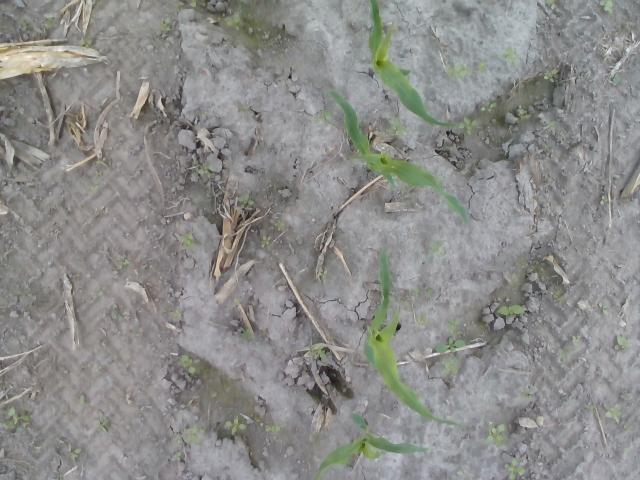Maize: (325, 85, 470, 226), (362, 247, 464, 430), (366, 0, 459, 131), (314, 410, 428, 480)
Weeds: (0, 406, 32, 434), (173, 425, 207, 446), (178, 354, 206, 378), (486, 421, 507, 448), (504, 458, 528, 480), (223, 415, 248, 436), (435, 336, 465, 353), (380, 119, 408, 137), (446, 62, 471, 82), (456, 116, 481, 136), (559, 335, 577, 361), (603, 400, 621, 422), (496, 304, 526, 316), (440, 358, 458, 378), (312, 109, 332, 127), (502, 48, 518, 70), (310, 343, 332, 359), (614, 334, 632, 352), (223, 14, 241, 32), (237, 192, 257, 208), (176, 230, 193, 248), (95, 416, 112, 434), (431, 240, 448, 257), (599, 0, 616, 17), (447, 318, 463, 336), (66, 444, 80, 464), (16, 18, 34, 33), (544, 68, 560, 83), (413, 286, 433, 298), (113, 256, 129, 271), (8, 111, 22, 128), (512, 111, 532, 122), (159, 16, 171, 33), (614, 70, 626, 86), (197, 162, 210, 176), (240, 328, 255, 340), (480, 102, 497, 112), (15, 289, 32, 299), (238, 0, 248, 17), (262, 424, 280, 433), (415, 312, 427, 325), (259, 235, 271, 248), (171, 309, 183, 321), (598, 302, 608, 316), (554, 290, 564, 304), (94, 288, 104, 302), (80, 38, 94, 48), (274, 218, 284, 232), (476, 59, 486, 73), (112, 304, 120, 320), (544, 0, 558, 9), (92, 362, 102, 374), (46, 18, 58, 28), (86, 184, 98, 194), (388, 22, 400, 32), (79, 392, 87, 406), (318, 269, 328, 280), (174, 451, 184, 462), (600, 194, 609, 206), (253, 416, 265, 424), (546, 120, 556, 128), (520, 392, 530, 400), (590, 404, 596, 416), (190, 0, 197, 8), (592, 10, 597, 16)
